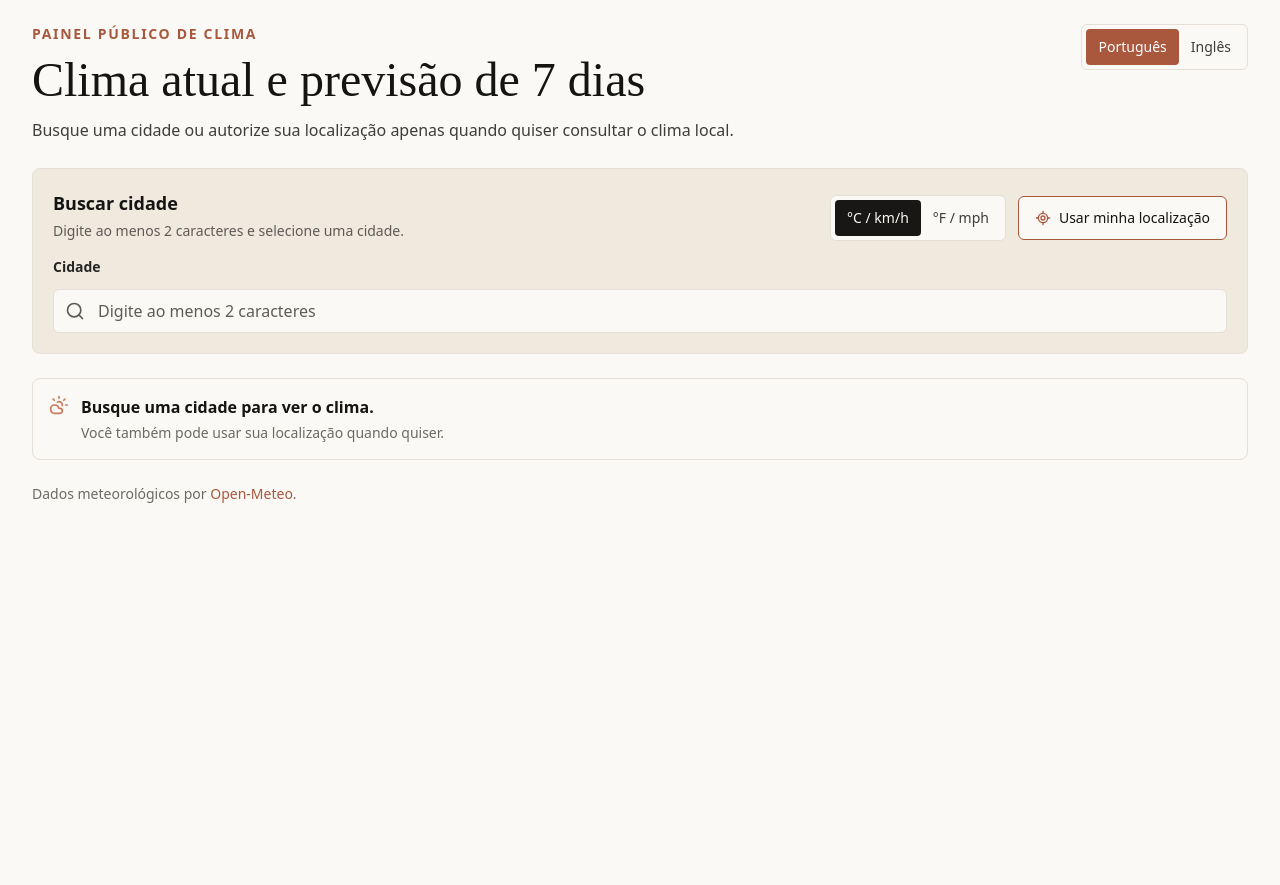
Test case: WeatherPage › should translate current location title after switching from English to Portuguese
Click the radio button labelled "Inglês" at (1211, 47), box [1179,29,1243,65]
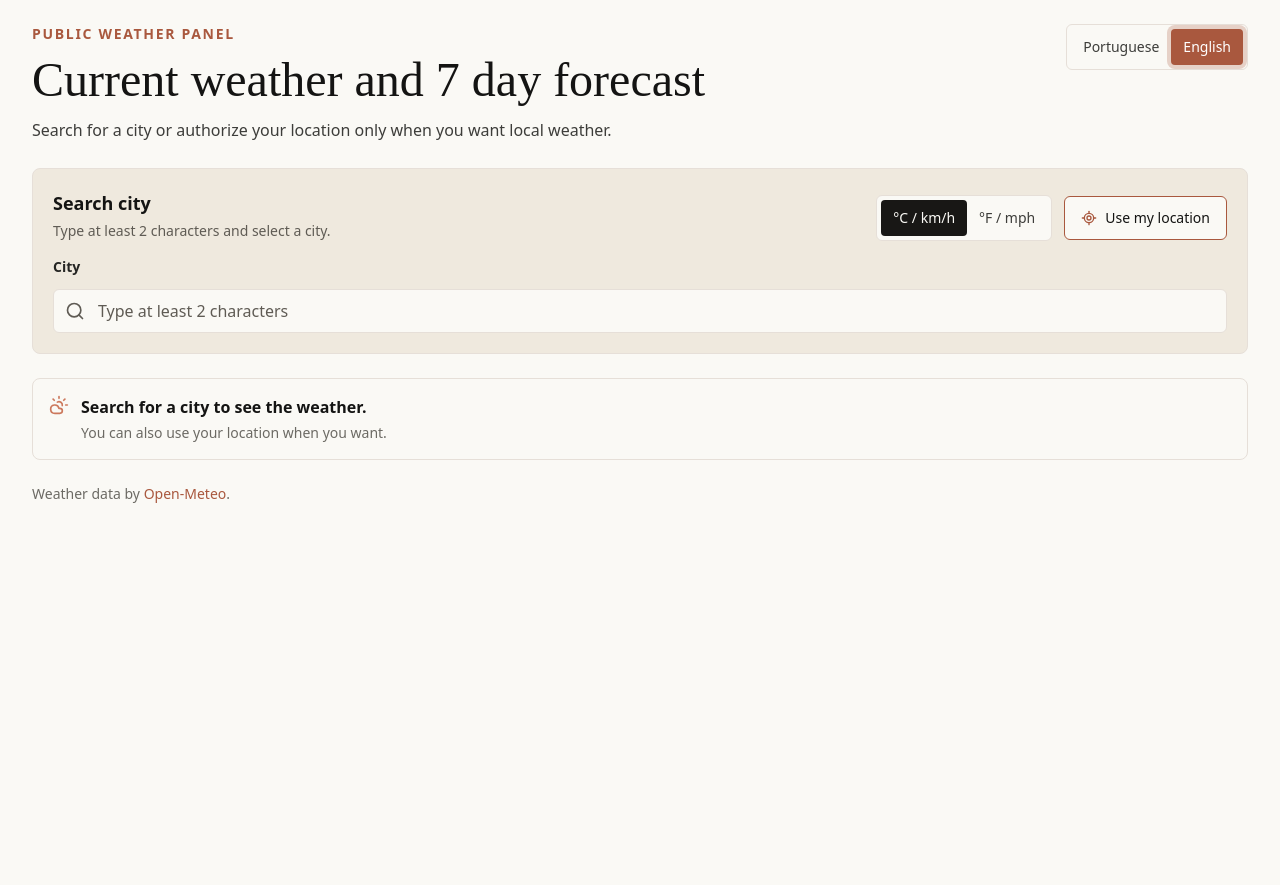
Click the button "Use my location" at (1146, 218), box [1064,196,1227,240]
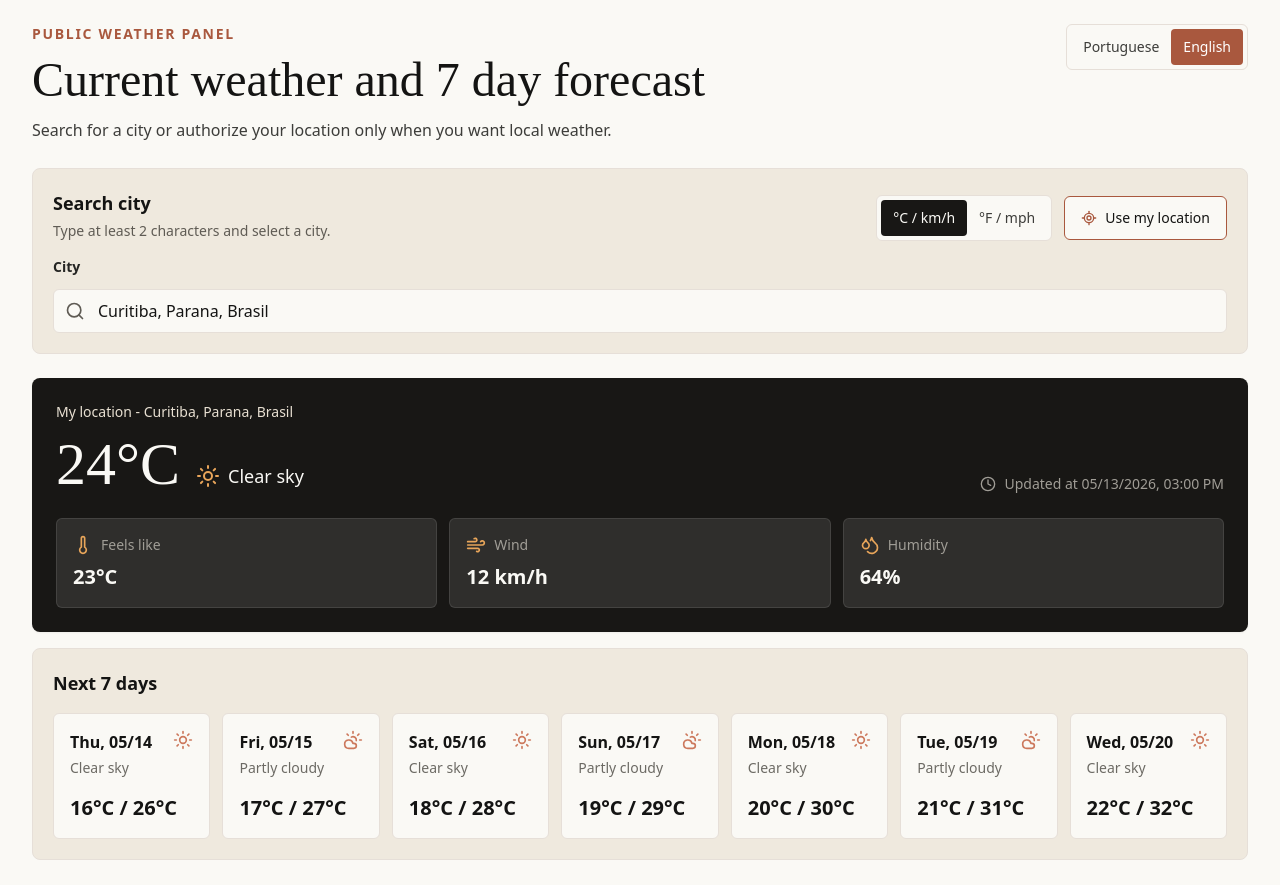
Result: the text "My location - Curitiba, Parana, Brasil" is shown at [56,402,304,422]
Click the radio button labelled "Portuguese" at (1121, 47), box [1071,29,1171,65]
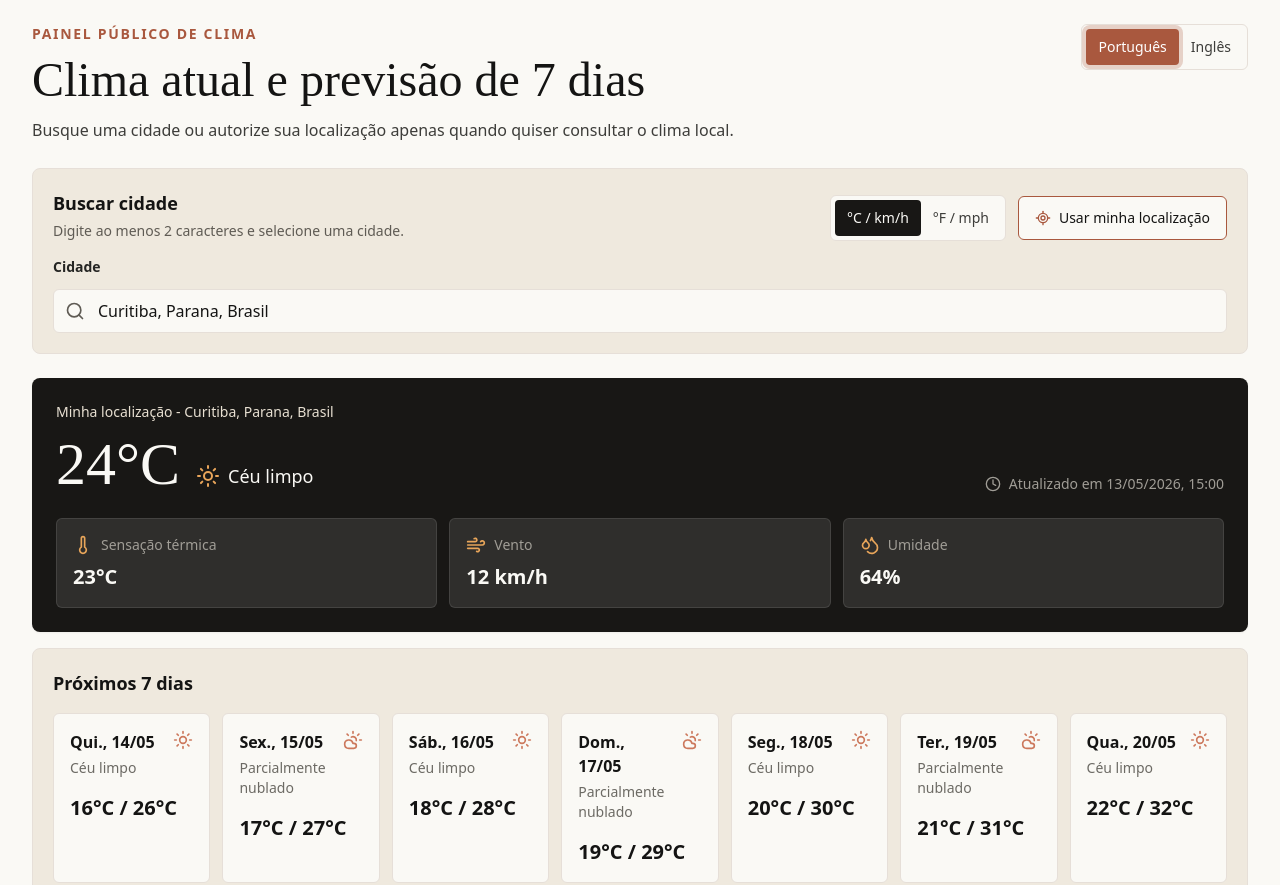
Result: the text "Minha localização - Curitiba, Parana, Brasil" is shown at [56,402,334,422]
Result: the button "my location" is gone
